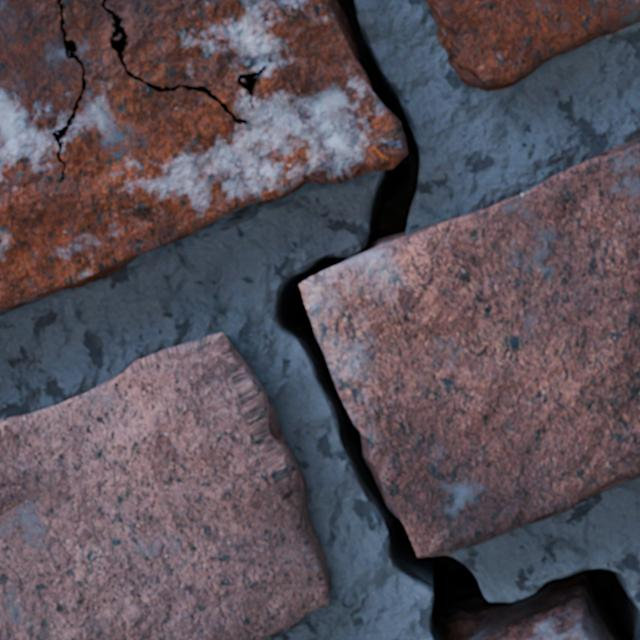crack: (0, 0, 639, 639), (0, 332, 329, 639), (425, 0, 639, 90)
